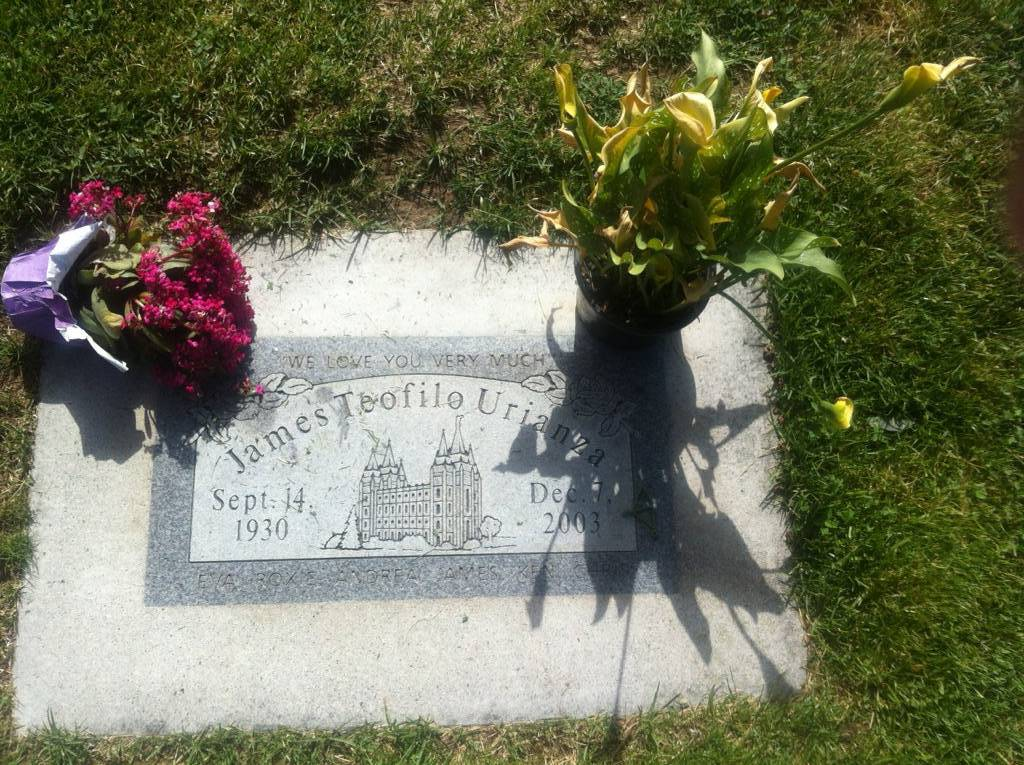flat: (145, 309, 700, 617)
